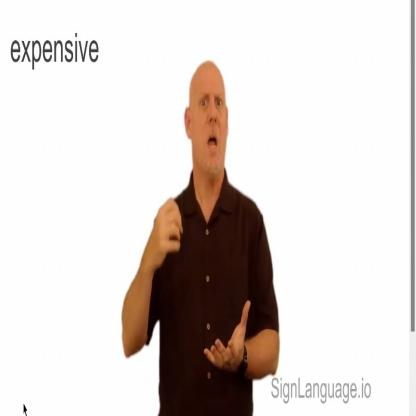Expensive: (120, 58, 284, 416)
